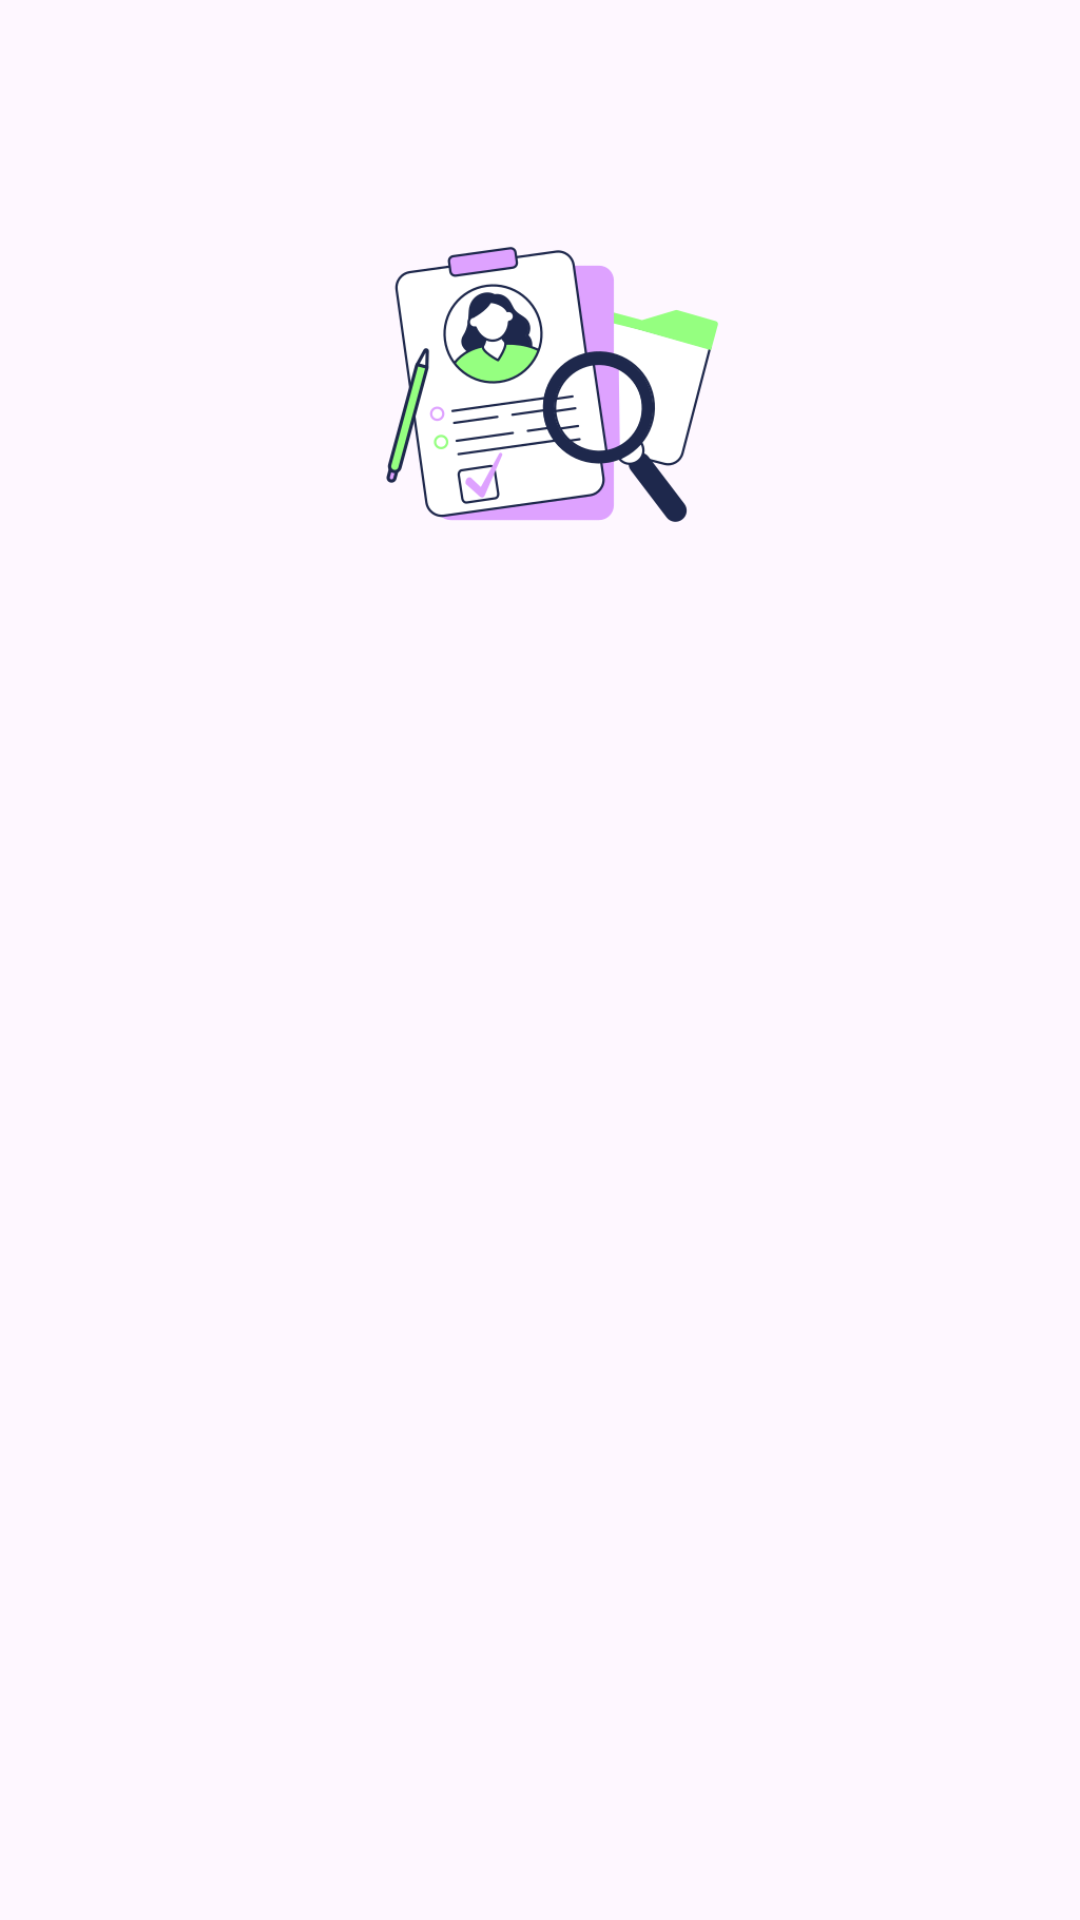

Icons on this 1080px×1920px Android screen, each with its box as BBox(x1, y1, x2, y2):
register: BBox(386, 246, 718, 522)
